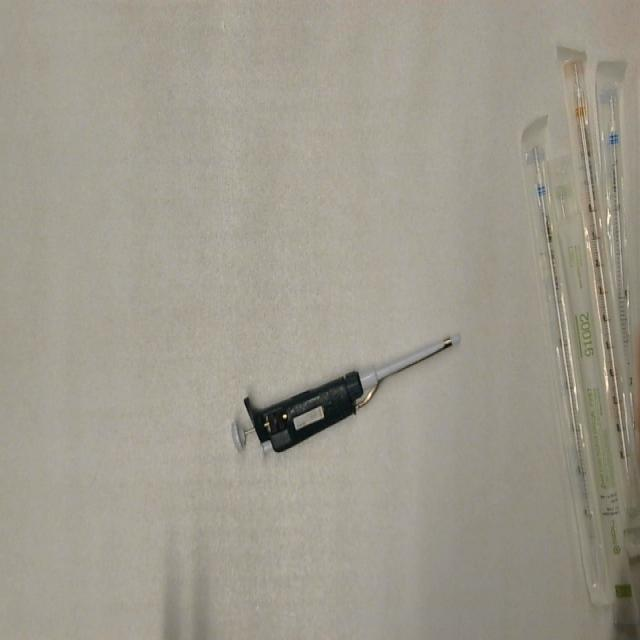Serelogical Pipet 10 mL: (558, 48, 640, 555)
Serelogical Pipet 2 mL: (550, 153, 640, 631)
Serelogical Pipet 5 mL: (519, 109, 617, 612), (594, 55, 632, 426)
Single Channel Pipettor: (230, 323, 466, 461)
